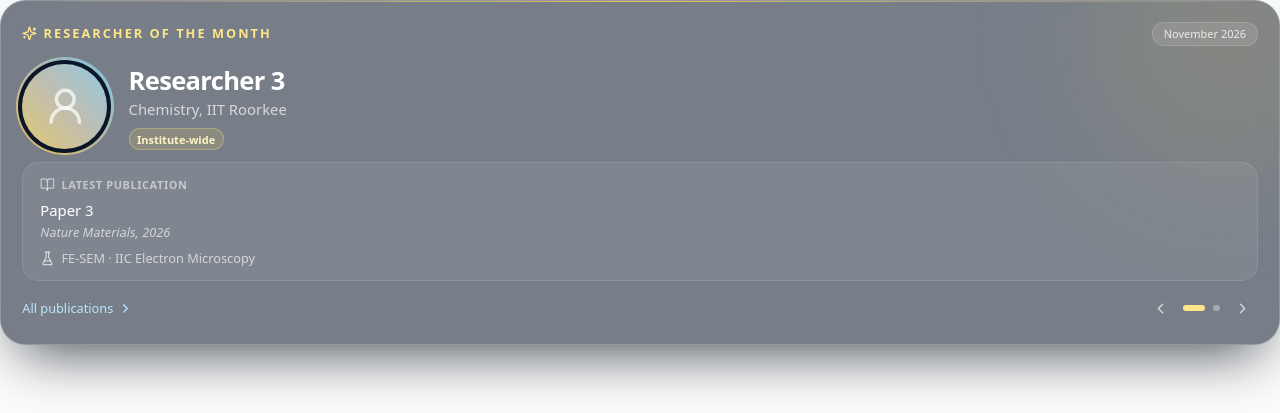
Test: Researcher of the Month spotlight › steps through several researchers
This screenshot has width=1280, height=413.
Expected: the heading "Researcher 3" is shown, [128, 62, 287, 96]
Click the button named "Next researcher".
click(1243, 308)  # box [1228, 293, 1258, 323]
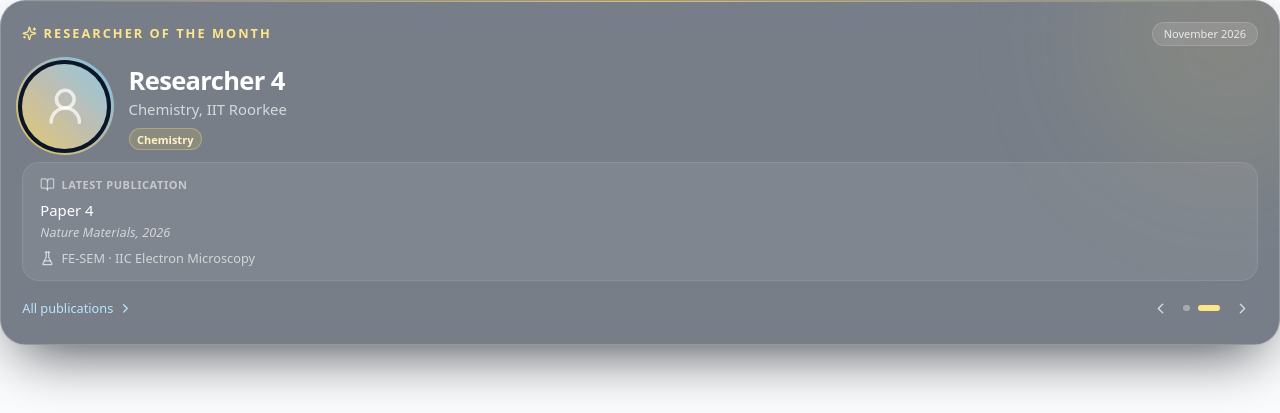
Expected: the heading "Researcher 4" is shown, [128, 62, 287, 96]
Click the button named "Show Researcher 3".
click(1187, 308)  # box [1183, 305, 1190, 311]
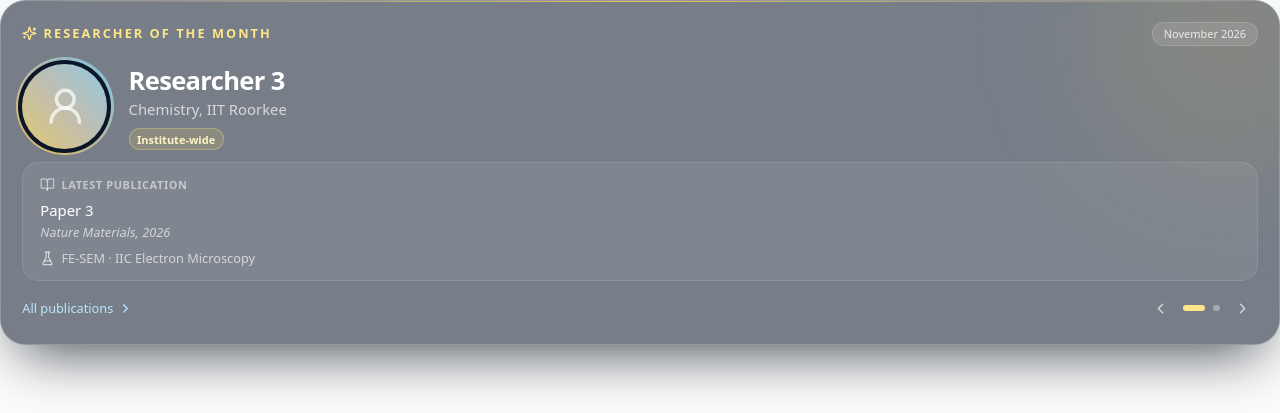
Expected: the heading "Researcher 3" is shown, [128, 62, 287, 96]
